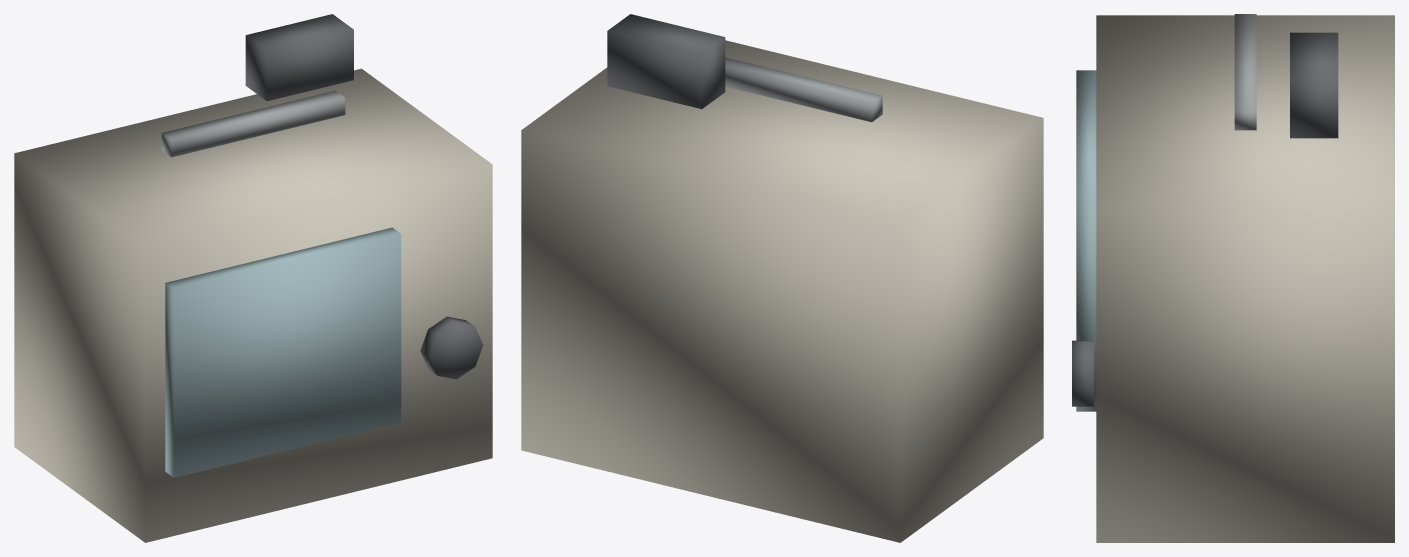
Rendered from portable_television__service.glb.
3 renders of one model, left to right at view 1: azimuth 30°, elevation 25°; view 2: azimuth 150°, elevation 25°; view 3: azimuth 270°, elevation 25°, orthographic. The views are drawn at different scales.
Visible parts, largest first — view 1: world; view 2: world; view 3: world.
Boxes of the visible parts, x1=… form: world: x1=14, y1=14, x2=492, y2=542; world: x1=521, y1=14, x2=1043, y2=542; world: x1=1072, y1=14, x2=1394, y2=542.
Bounding box in the file's own units: 0.52 × 0.5428 × 0.3675.
